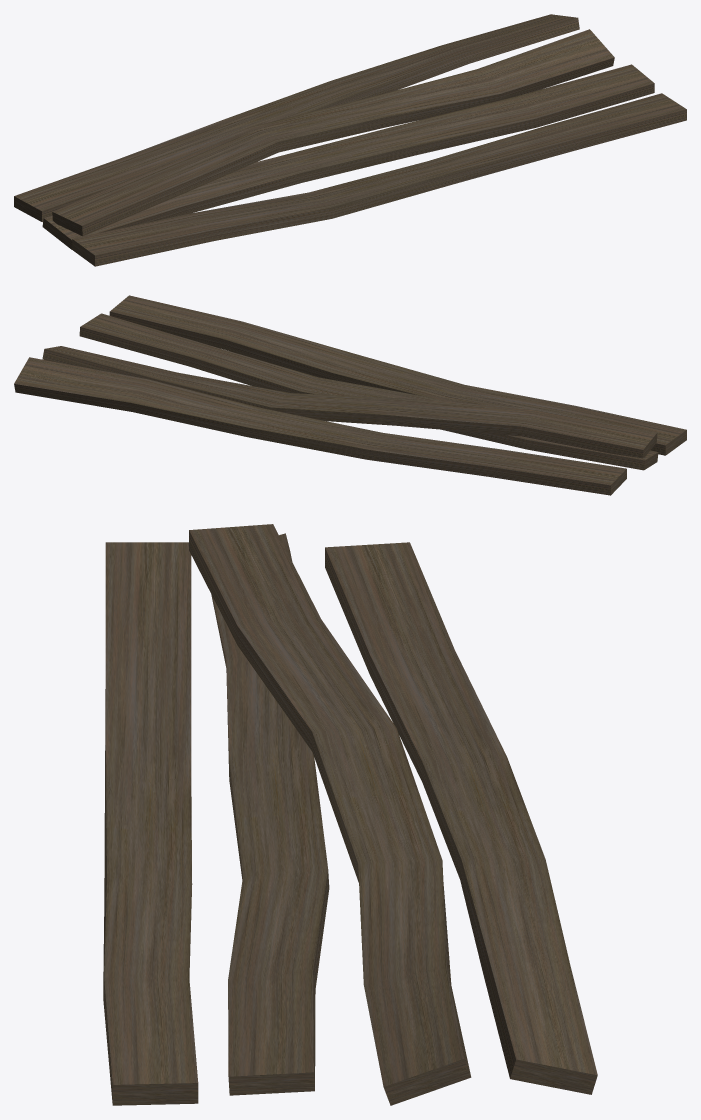
File: Plamks.FBX
The picture shows the model from 3 angles, top to bottom: view 1: azimuth 30°, elevation 25°; view 2: azimuth 150°, elevation 25°; view 3: azimuth 270°, elevation 25°; orthographic projection. The views are drawn at different scales.
Visible parts, largest first — view 1: Box004; view 2: Box004; view 3: Box004.
Boxes of the visible parts, x1,y1,x2,y2 form: Box004: [14, 14, 686, 266]; Box004: [14, 295, 686, 495]; Box004: [103, 524, 597, 1105].
Size of the model in its own units: 3.6 by 0.2262 by 1.38.
